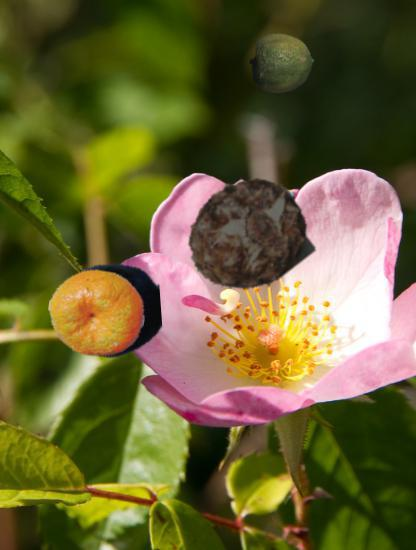Blueberry: (55, 258, 161, 364)
Limes: (250, 32, 314, 96)
Mandarine: (48, 265, 146, 363)
Pineapple: (186, 174, 309, 297)
